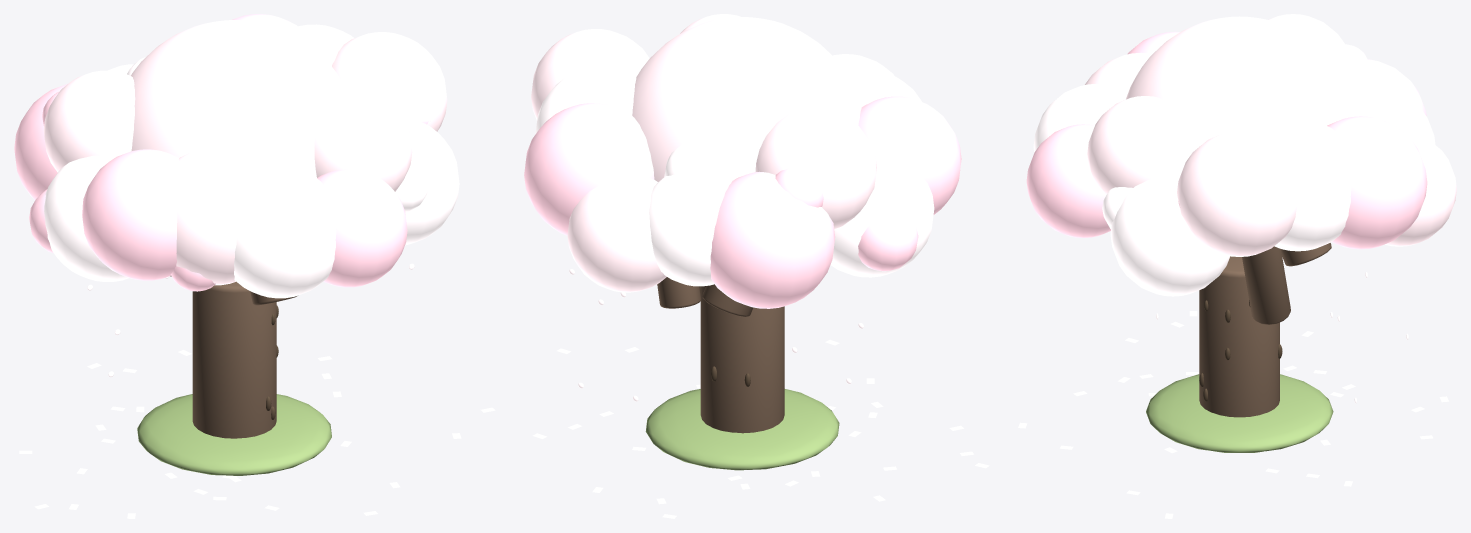
Rendered from sakura_v2.glb.
3 renders of one model, left to right at view 1: azimuth 30°, elevation 25°; view 2: azimuth 150°, elevation 25°; view 3: azimuth 270°, elevation 25°, orthographic. The views are drawn at different scales.
Parts seen in each view (by area): view 1: sakura_v2; view 2: sakura_v2; view 3: sakura_v2.
Part boxes in pixels (<box>): sakura_v2: <box>14,14,495,518</box>; sakura_v2: <box>524,14,989,518</box>; sakura_v2: <box>1018,14,1456,518</box>.
Bounding box in the file's own units: 3.9 × 3.47 × 3.48.
